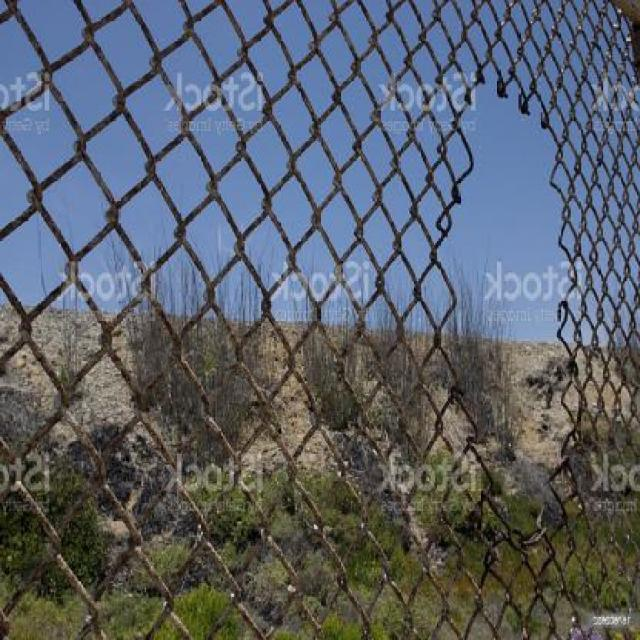fence line: (445, 75, 580, 556)
